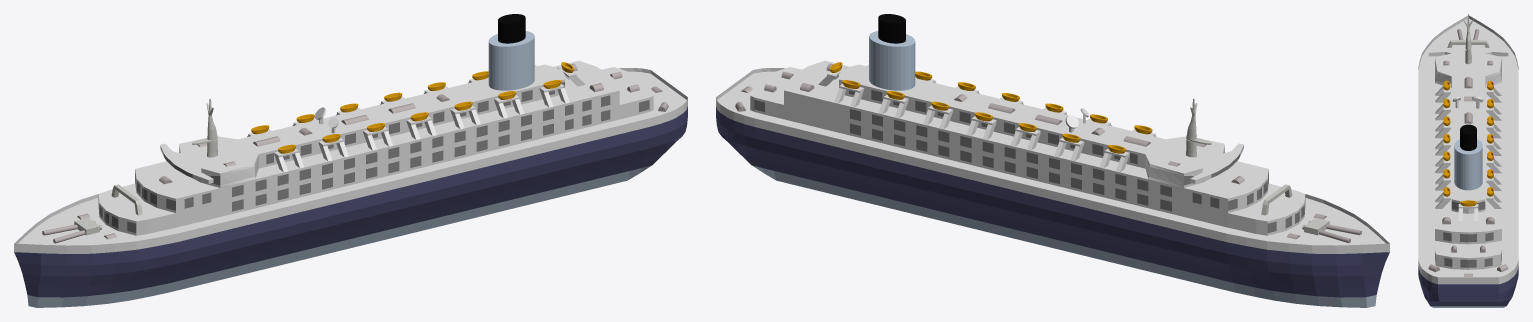
3 views of the same model, side by side, from view 1: azimuth 30°, elevation 25°; view 2: azimuth 150°, elevation 25°; view 3: azimuth 270°, elevation 25° (orthographic). The views are drawn at different scales.
Visible parts, largest first — view 1: Cube_015, Cube_014, Cylinder_015, Cylinder_016, Cube_019, Cube_021, Cube_020, Cube_016, Cube_017, Cube_022, Cube_018; view 2: Cube_015, Cube_014, Cylinder_015, Cylinder_016, Cube_029, Cube_024, Cube_027, Cube_025, Cube_026, Cube_023, Cube_028; view 3: Cube_015, Cube_014, Cylinder_015, Cube_066, Cylinder_016, Cube_029, Cube_019, Cube_021, Cube_018, Cube_017, Cube_024, Cube_020 (+11 smaller).
Part boxes in pixels (bbox=[...]): Cube_015: bbox=[14, 60, 687, 253]; Cube_014: bbox=[14, 106, 687, 307]; Cylinder_015: bbox=[488, 14, 534, 90]; Cylinder_016: bbox=[192, 98, 218, 157]; Cube_019: bbox=[406, 112, 436, 139]; Cube_021: bbox=[494, 91, 524, 118]; Cube_020: bbox=[450, 101, 480, 129]; Cube_016: bbox=[274, 144, 303, 172]; Cube_017: bbox=[318, 134, 348, 161]; Cube_022: bbox=[539, 80, 569, 107]; Cube_018: bbox=[363, 123, 393, 150]; Cube_015: bbox=[716, 60, 1389, 253]; Cube_014: bbox=[716, 106, 1389, 307]; Cylinder_015: bbox=[869, 14, 915, 90]; Cylinder_016: bbox=[1186, 98, 1211, 157]; Cube_029: bbox=[834, 80, 864, 107]; Cube_024: bbox=[1054, 133, 1084, 161]; Cube_027: bbox=[923, 101, 953, 129]; Cube_025: bbox=[1010, 123, 1040, 150]; Cube_026: bbox=[966, 112, 996, 139]; Cube_023: bbox=[1099, 145, 1129, 172]; Cube_028: bbox=[878, 91, 908, 118]; Cube_015: bbox=[1418, 15, 1518, 284]; Cube_014: bbox=[1418, 266, 1518, 307]; Cylinder_015: bbox=[1454, 124, 1482, 190]; Cube_066: bbox=[1458, 200, 1478, 220]; Cylinder_016: bbox=[1463, 14, 1473, 64]; Cube_029: bbox=[1486, 187, 1501, 208]; Cube_019: bbox=[1435, 133, 1450, 155]; Cube_021: bbox=[1435, 169, 1450, 190]; Cube_018: bbox=[1435, 116, 1450, 138]; Cube_017: bbox=[1435, 98, 1450, 120]; Cube_024: bbox=[1486, 99, 1501, 120]; Cube_020: bbox=[1435, 151, 1450, 173].
Size of the model in its own units: 15.42 by 2.5 by 3.81.
